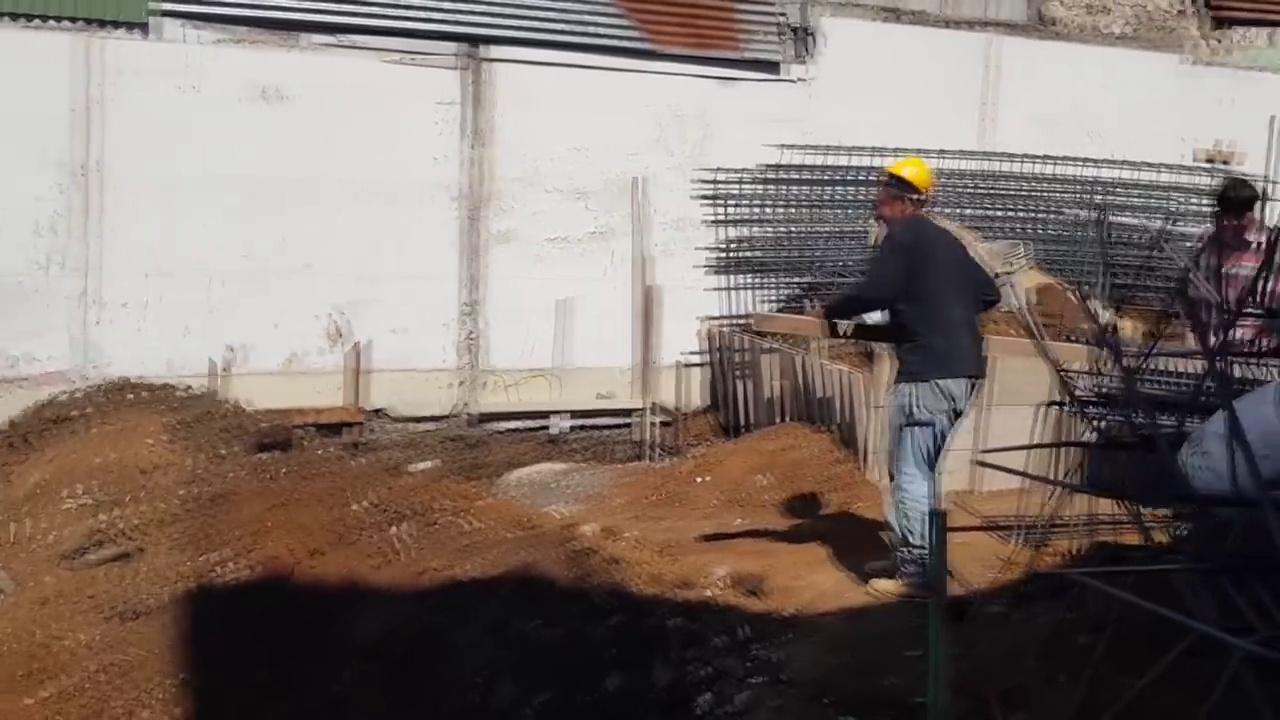helmet: (883, 159, 940, 198)
helmet-off: (1213, 177, 1263, 236)
helmet-on: (855, 159, 940, 234)
person: (812, 138, 1000, 618), (1185, 170, 1274, 371)
